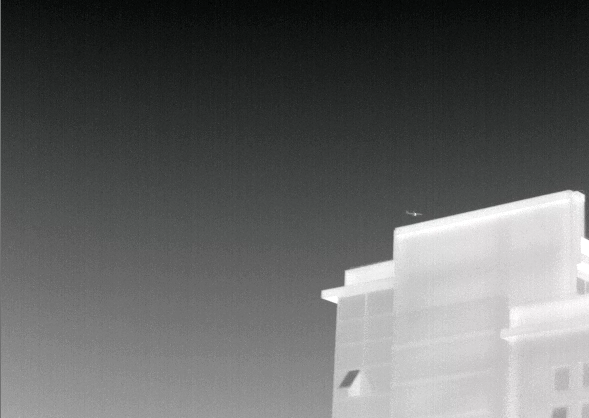dim target: (405, 206, 423, 220)
